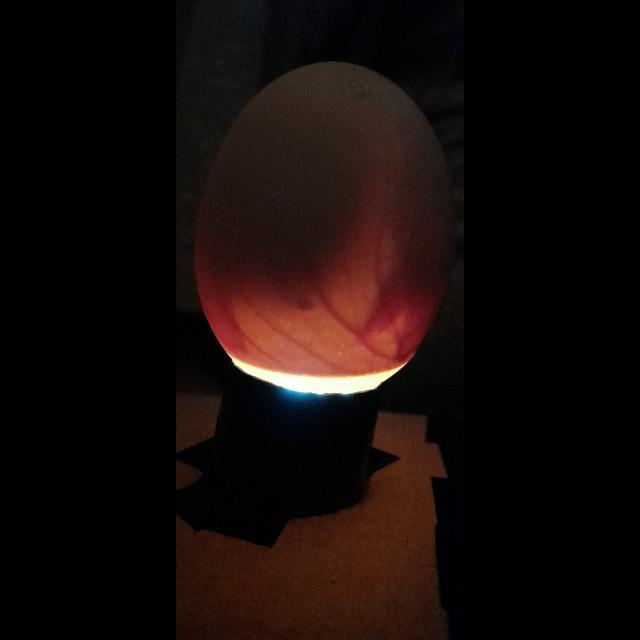Fertile: (190, 59, 446, 401)
